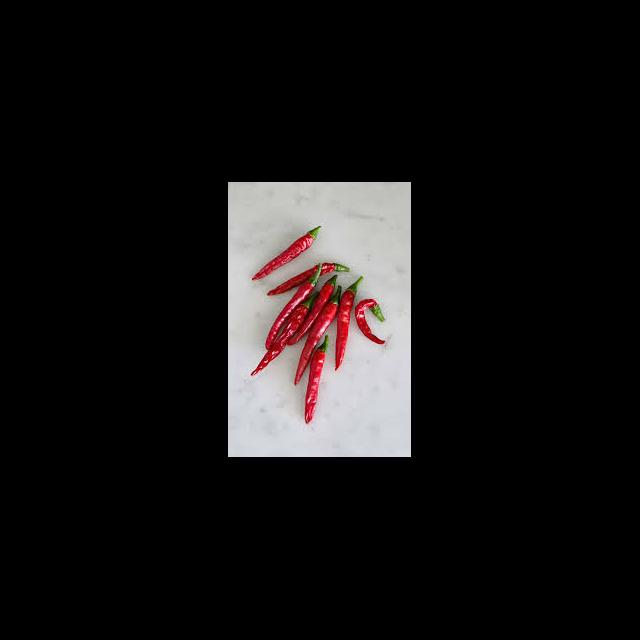chili_pepper: (250, 278, 332, 377), (252, 224, 324, 282), (334, 292, 358, 372), (306, 348, 328, 423)
